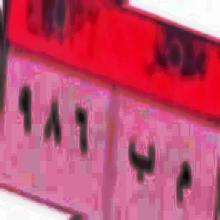6: (73, 102, 91, 160)
8: (44, 89, 62, 152)
9: (15, 74, 34, 144)
baa: (127, 122, 155, 190)
meem: (172, 143, 191, 220)
